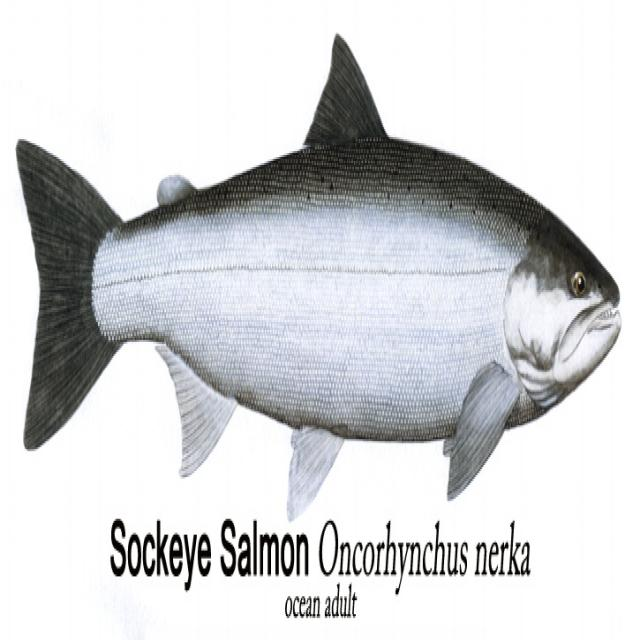salmon: (7, 20, 630, 522)
